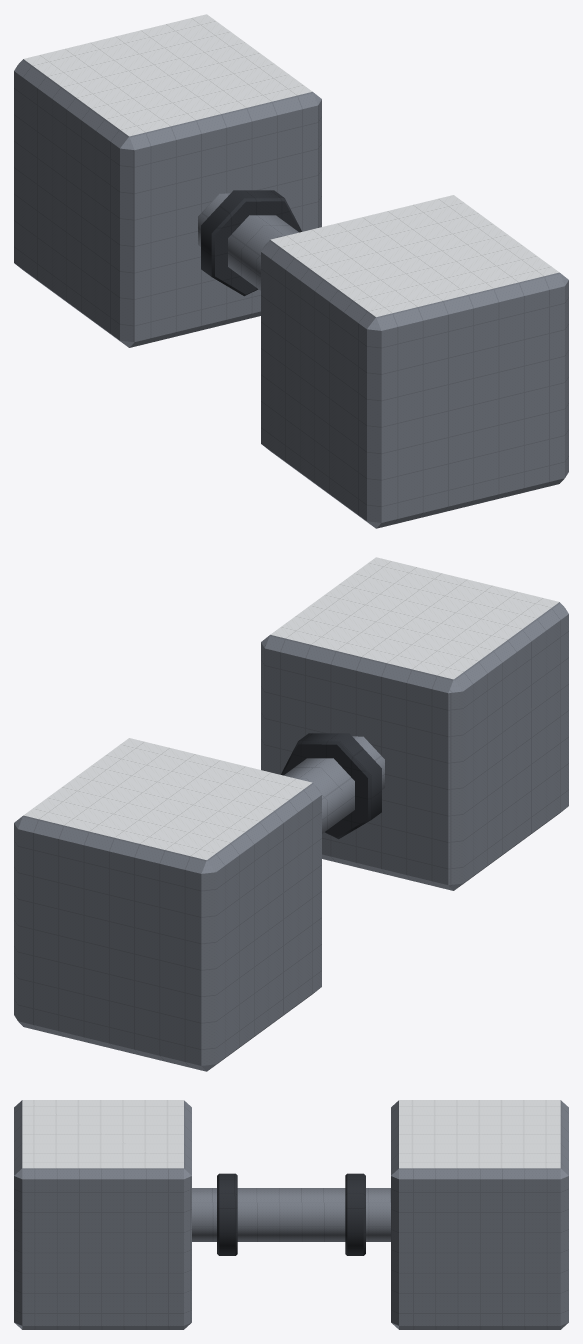
File: R4C_STRUT_STANDARD_LOD1.glb
The picture shows the model from 3 angles, top to bottom: view 1: azimuth 30°, elevation 25°; view 2: azimuth 150°, elevation 25°; view 3: azimuth 270°, elevation 25°; orthographic projection. The views are drawn at different scales.
Visible parts, largest first — view 1: R4C_STRUT_STANDARD_LOD1; view 2: R4C_STRUT_STANDARD_LOD1; view 3: R4C_STRUT_STANDARD_LOD1.
Boxes of the visible parts, bbox=[...] form: R4C_STRUT_STANDARD_LOD1: bbox=[14, 14, 568, 528]; R4C_STRUT_STANDARD_LOD1: bbox=[14, 557, 568, 1071]; R4C_STRUT_STANDARD_LOD1: bbox=[14, 1100, 568, 1329].
Bounding box in the file's own units: 0.52 × 0.52 × 1.62.
3 materials, 3 textured.
